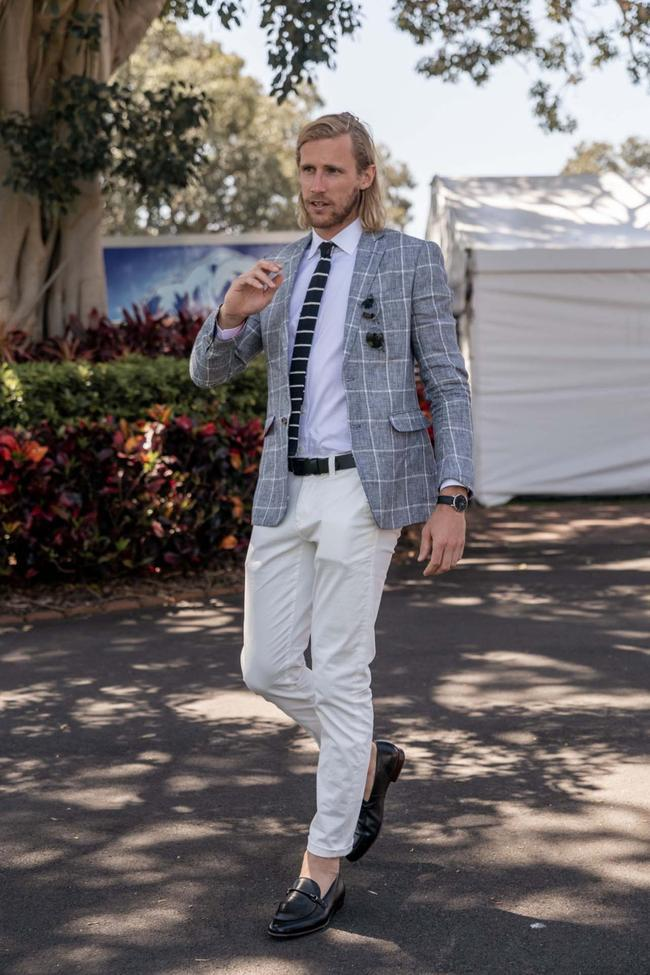Person: (186, 113, 474, 937)
